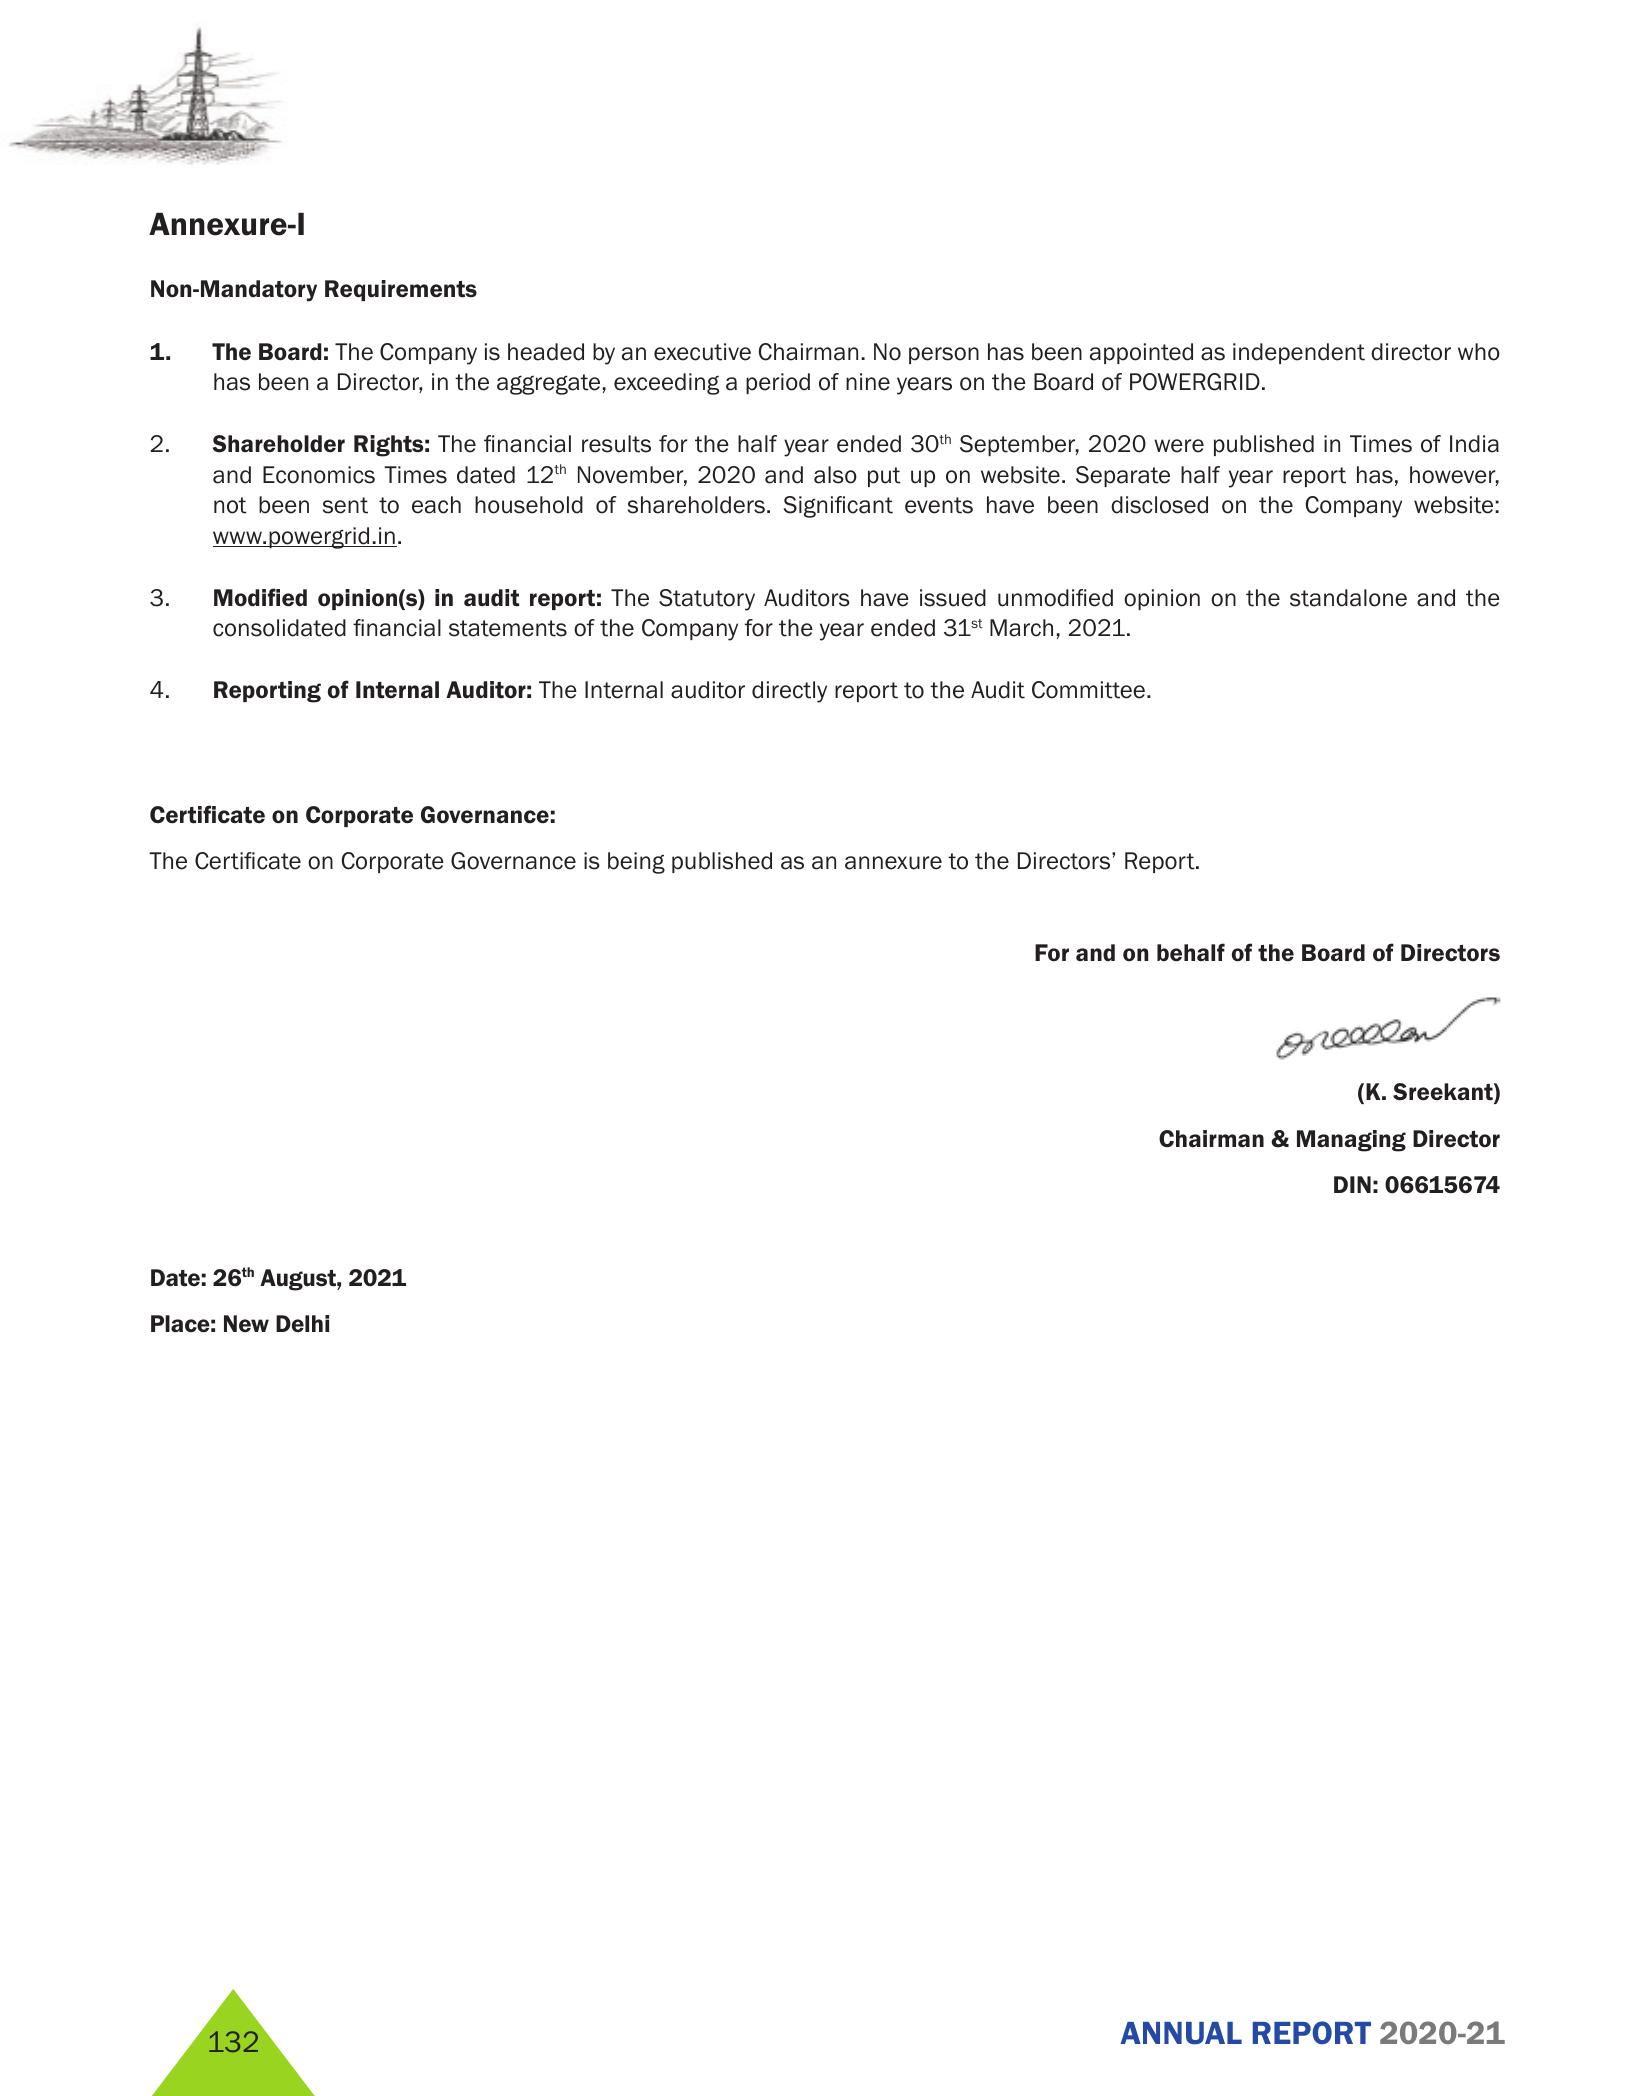Footer: (0, 1974, 1650, 2096)
Header: (0, 0, 1650, 180)
